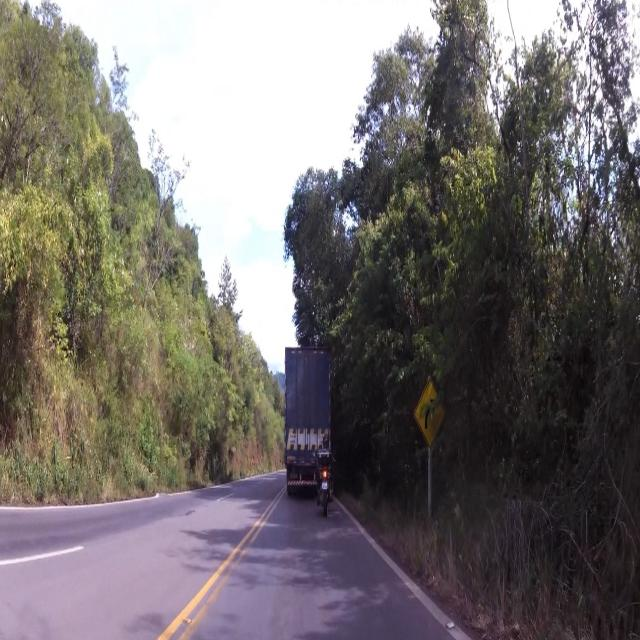A-2b: (413, 377, 450, 454)
